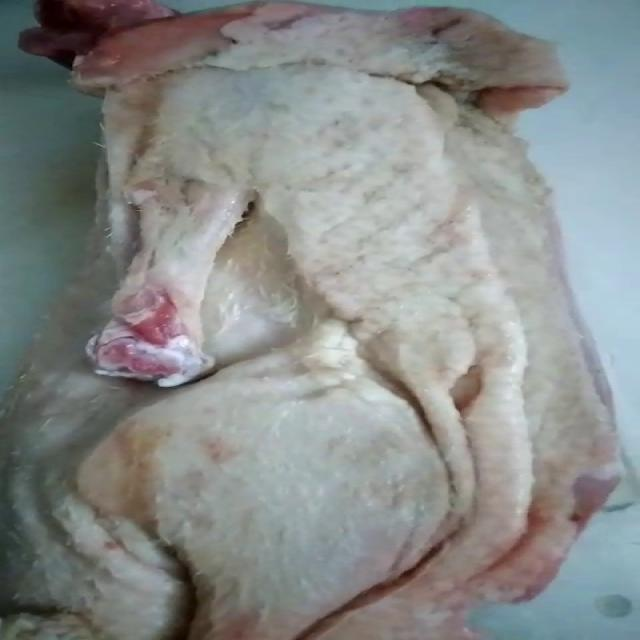chicken: (4, 0, 624, 638)
